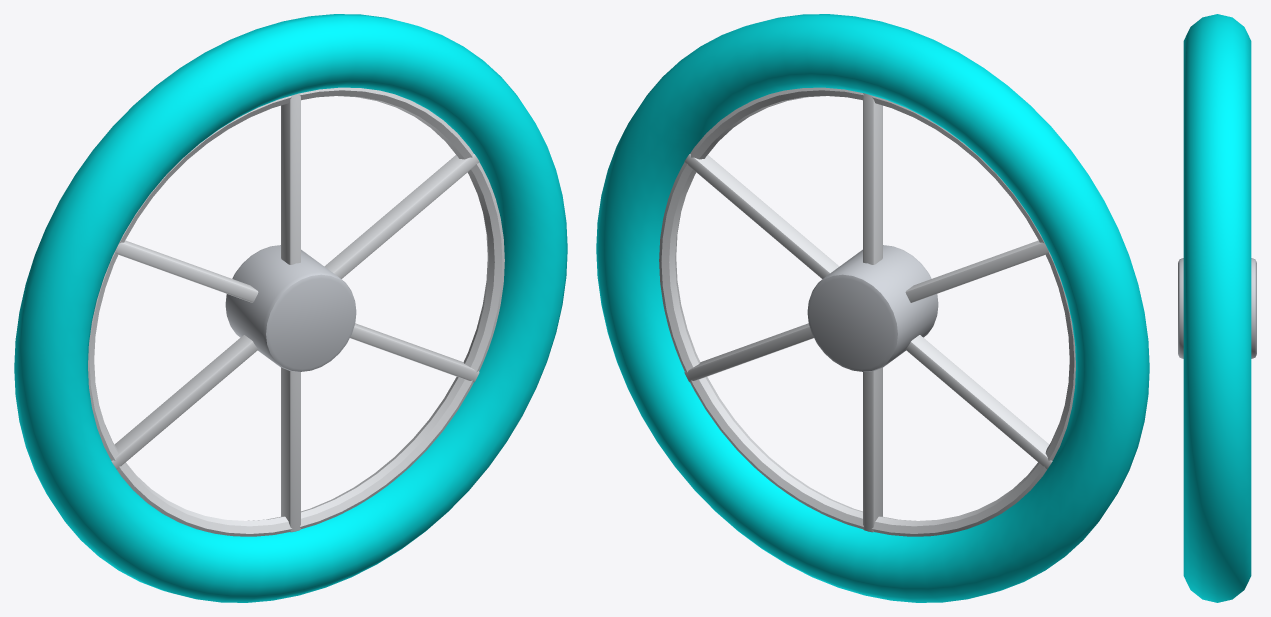
Rendered from gyro_flywheel.glb.
3 renders of one model, left to right at view 1: azimuth 30°, elevation 25°; view 2: azimuth 150°, elevation 25°; view 3: azimuth 270°, elevation 25°, orthographic. The views are drawn at different scales.
Parts seen in each view (by area): view 1: Torus; view 2: Torus; view 3: Torus.
Part boxes in pixels (x1,y1,x2,y2): Torus: (14, 14, 567, 602); Torus: (596, 14, 1149, 602); Torus: (1178, 14, 1256, 602).
Bounding box in the file's own units: 3.74 × 3.74 × 0.5.
